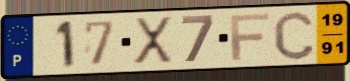1: (53, 19, 77, 71)
7: (179, 13, 218, 65), (82, 19, 117, 67)
C: (271, 9, 317, 62)
F: (228, 12, 272, 62)
X: (131, 15, 175, 66)
